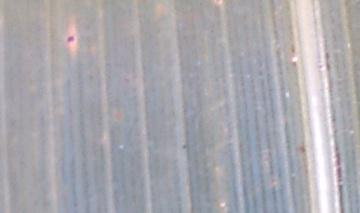tarspot: (66, 33, 76, 43), (179, 140, 188, 150), (288, 46, 296, 54), (299, 145, 306, 152)
